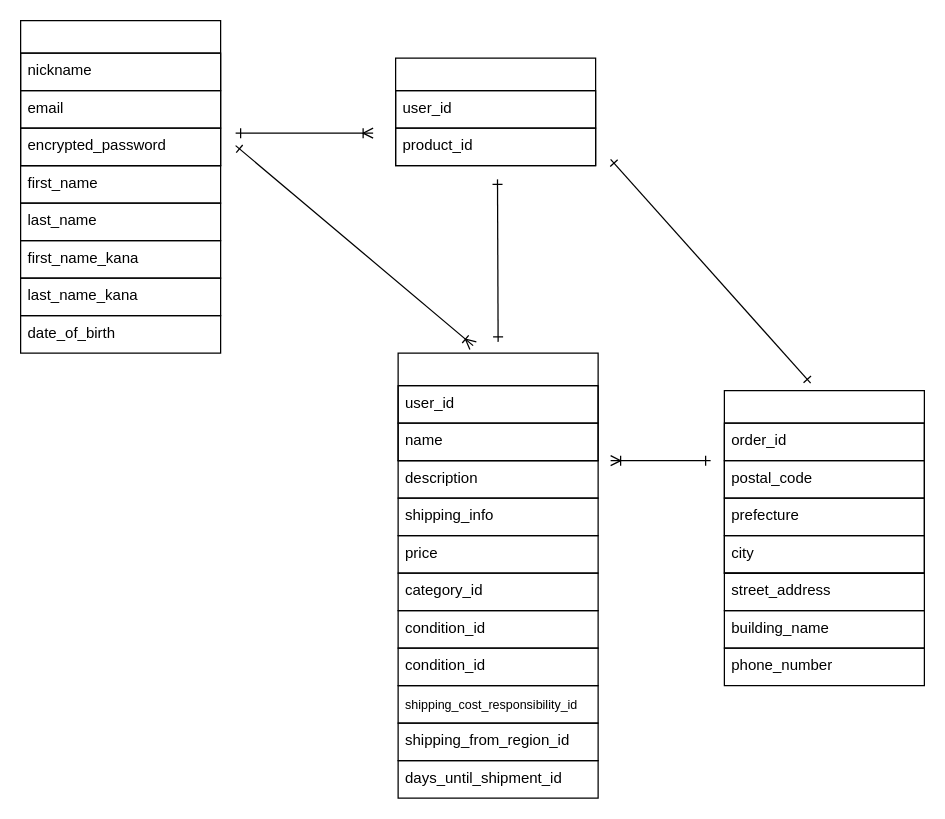
This 945x819 diagram has some shape labels left out. Each missing label, with the box of its shape:
Orders: (394, 57, 596, 166)
Products: (397, 352, 598, 461)
ShippingAddresses: (723, 389, 924, 573)
Users: (19, 19, 221, 166)
